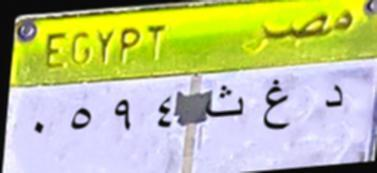0: (30, 115, 48, 144)
4: (152, 90, 178, 134)
5: (65, 106, 96, 135)
9: (112, 96, 138, 139)
daal: (318, 80, 348, 120)
ghayn: (258, 76, 294, 138)
thaa: (202, 84, 250, 121)
